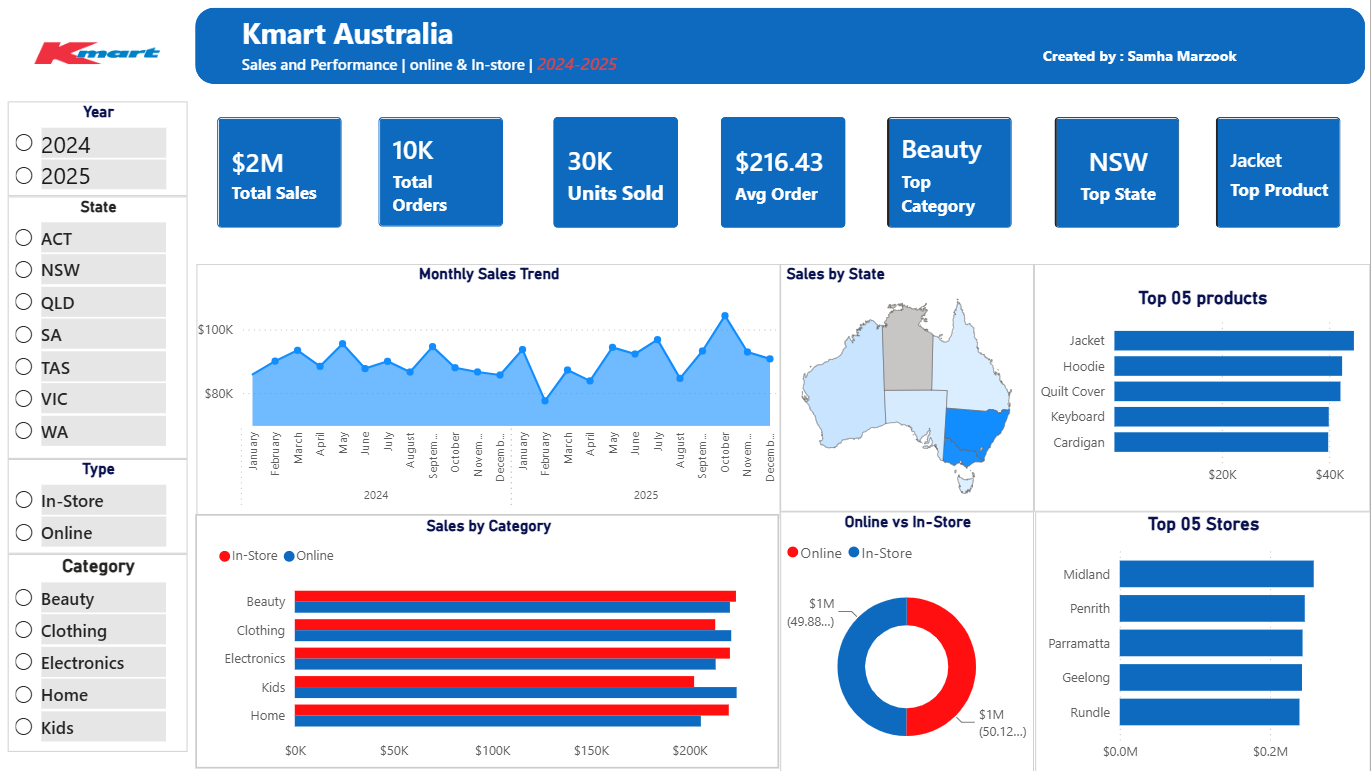

The page's visual inventory and layout, read from the dashboard file:
{"tool":"powerbi","page":{"name":"Dashboard","canvas":[1280,720],"ordinal":0},"visuals":[{"type":"cardVisual","fields":{"Data":["Kmart_Data.Total Sales"]},"box":[190.7,93,150,137.2],"z":0},{"type":"cardVisual","fields":{"Data":["Kmart_Data.Total Orders"]},"box":[340.7,93,150,136],"z":1000},{"type":"cardVisual","fields":{"Data":["Kmart_Data.Units Sold"]},"box":[503.1,93,150,137],"z":2000},{"type":"cardVisual","fields":{"Data":["Kmart_Data.Average Order Value"]},"box":[658.7,93,150,137.2],"z":3000},{"type":"cardVisual","fields":{"Data":["Kmart_Data.Top Performing State"]},"box":[970,93,150,137],"z":4000},{"type":"cardVisual","fields":{"Data":["Kmart_Data.Top Category"]},"box":[814.3,93,150,137],"z":5000},{"type":"cardVisual","fields":{"Data":["Kmart_Data.Online Sales %"]},"box":[1119.8,93,150,137.2],"z":6000},{"type":"stackedAreaChart","title":"Monthly Sales Trend","fields":{"Category":["Kmart_Data.Order Date.Variation.Date Hierarchy.Year","Kmart_Data.Order Date.Variation.Date Hierarchy.Month"],"Y":["Kmart_Data.Total Sales"]},"box":[188.4,246.5,543,237],"z":7000},{"type":"clusteredBarChart","title":" Sales by Category ","fields":{"Category":["Kmart_Data.Category"],"Y":["Kmart_Data.Total Sales"],"Series":["Kmart_Data.Sales Channel"]},"box":[187.2,479.1,543,237],"z":8000},{"type":"donutChart","title":"Online vs In-Store","fields":{"Category":["Kmart_Data.Sales Channel"],"Y":["Kmart_Data.Total Sales"]},"box":[731.4,476.7,236,243],"z":9000},{"type":"clusteredBarChart","title":"Top 05 Stores","fields":{"Category":["Kmart_Data.Store Name"],"Y":["Kmart_Data.Total Sales"]},"box":[968.6,476.7,311.6,243],"z":10000},{"type":"shapeMap","title":" Sales by State","fields":{"Category":["Kmart_Data.State"],"Value":["Kmart_Data.Total Sales"]},"box":[731.4,246.5,236,230.2],"z":11000},{"type":"listSlicer","fields":{"Values":["Kmart_Data.Order Date.Variation.Date Hierarchy.Year"]},"box":[12.8,95.3,167.4,88.4],"z":12000},{"type":"listSlicer","fields":{"Values":["Kmart_Data.State"]},"box":[12.8,183.7,167.4,244.2],"z":13000},{"type":"listSlicer","title":"Type","fields":{"Values":["Kmart_Data.Sales Channel"]},"box":[12.8,427.9,167.4,88.4],"z":14000},{"type":"image","box":[0,0,191.9,101.2],"z":15000},{"type":"shape","box":[187.2,8.1,1088.4,70.9],"z":16000},{"type":"textbox","box":[225.6,8.1,550,70.9],"z":17000},{"type":"clusteredBarChart","title":"Top 05 products","fields":{"Category":["Kmart_Data.Product"],"Y":["Kmart_Data.Total Sales"]},"box":[967.4,246.5,312.8,230.2],"z":18000},{"type":"textbox","box":[970.9,38.4,300,40.7],"z":19000},{"type":"listSlicer","fields":{"Values":["Kmart_Data.Category"]},"box":[12.8,516.3,167.4,183.7],"z":20000}]}

Visuals, with their boxes in screenshot pixels (x1, y1, x2, y2), scaled from the page's 1280x720 canvas onto the 1372x771 screenshot:
cardVisual - Kmart_Data.Total Sales: 204:100:365:247
cardVisual - Kmart_Data.Total Orders: 365:100:526:245
cardVisual - Kmart_Data.Units Sold: 539:100:700:246
cardVisual - Kmart_Data.Average Order Value: 706:100:867:247
cardVisual - Kmart_Data.Top Performing State: 1040:100:1200:246
cardVisual - Kmart_Data.Top Category: 873:100:1034:246
cardVisual - Kmart_Data.Online Sales %: 1200:100:1361:247
"Monthly Sales Trend" stackedAreaChart: 202:264:784:518
" Sales by Category " clusteredBarChart: 201:513:783:767
"Online vs In-Store" donutChart: 784:510:1037:770
"Top 05 Stores" clusteredBarChart: 1038:510:1371:770
" Sales by State" shapeMap: 784:264:1037:510
listSlicer - Kmart_Data.Order Date.Variation.Date Hierarchy.Year: 14:102:193:197
listSlicer - Kmart_Data.State: 14:197:193:458
"Type" listSlicer: 14:458:193:553
image: 0:0:206:108
shape: 201:9:1367:85
textbox: 242:9:831:85
"Top 05 products" clusteredBarChart: 1037:264:1371:510
textbox: 1041:41:1362:85
listSlicer - Kmart_Data.Category: 14:553:193:750
